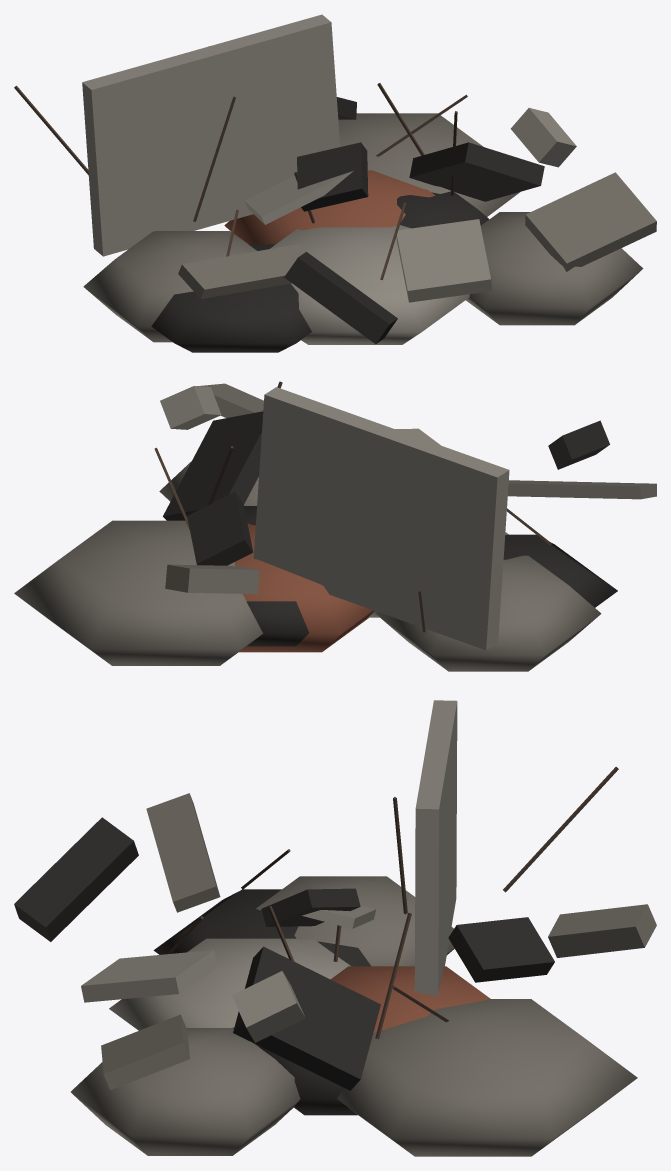
The model's file is rubble_1x1.glb.
3 views of the same model, one above another, from view 1: azimuth 30°, elevation 25°; view 2: azimuth 150°, elevation 25°; view 3: azimuth 270°, elevation 25° (orthographic). The views are drawn at different scales.
Visible parts, largest first — view 1: rubble_1x1; view 2: rubble_1x1; view 3: rubble_1x1.
Part boxes in pixels (left/top/right/bottom): rubble_1x1: left=14, top=14, right=656, bottom=352; rubble_1x1: left=14, top=381, right=656, bottom=671; rubble_1x1: left=14, top=700, right=656, bottom=1156.
Size of the model in its own units: 8.61 by 4.54 by 9.58.
